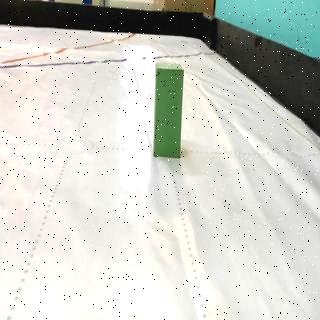greenbox: (154, 60, 183, 162)
